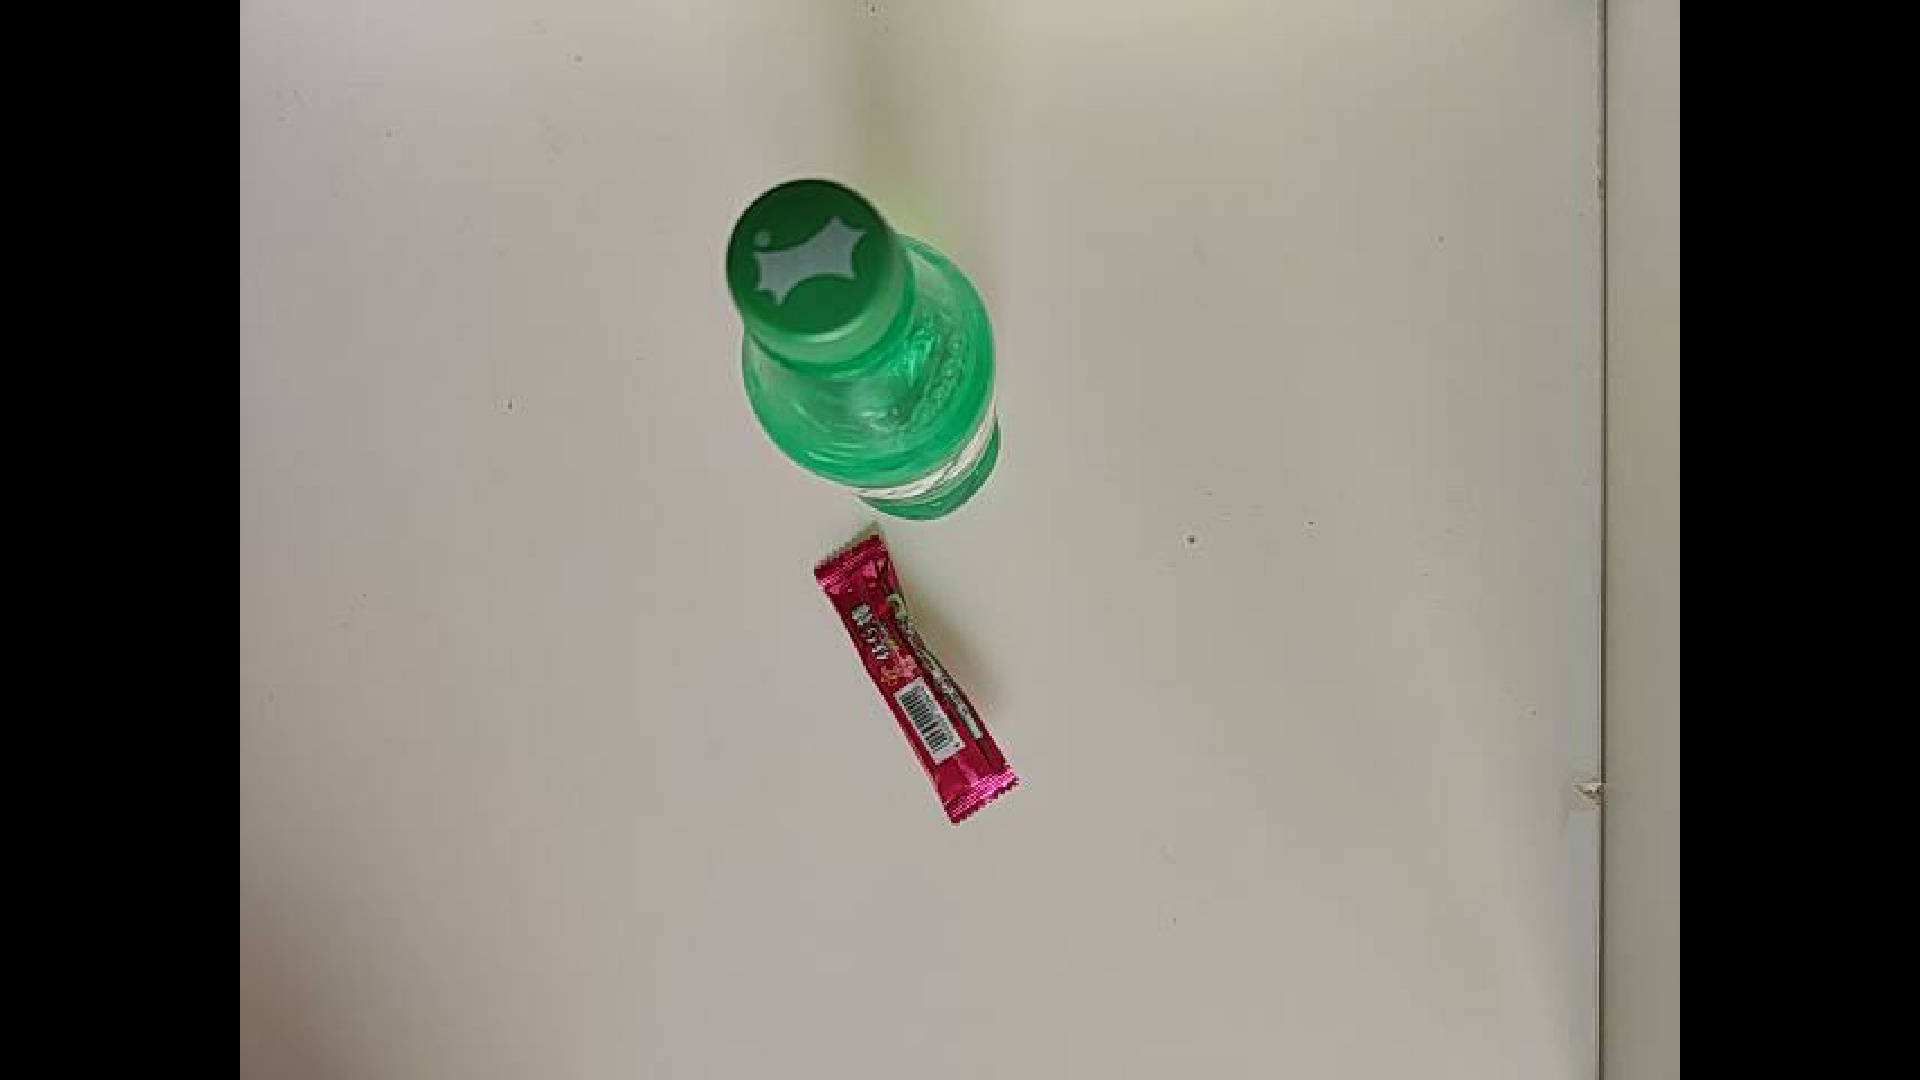sprite: (723, 177, 1004, 524)
sugar: (807, 545, 1139, 831)
